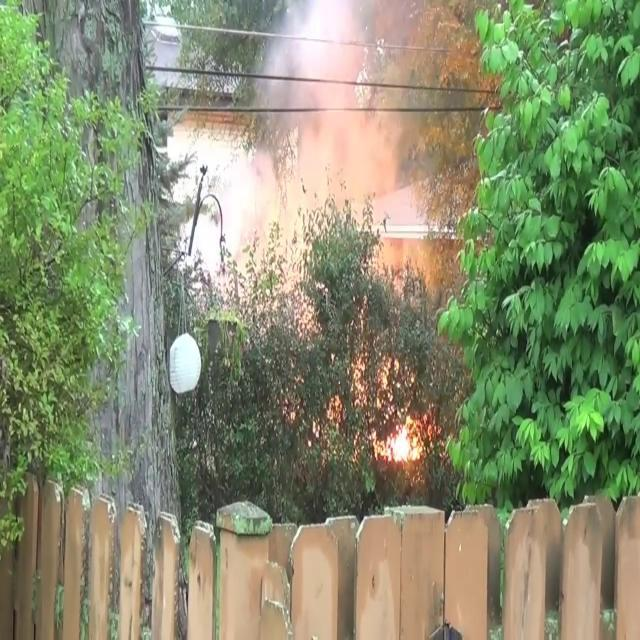Smoke: (193, 1, 461, 310)
